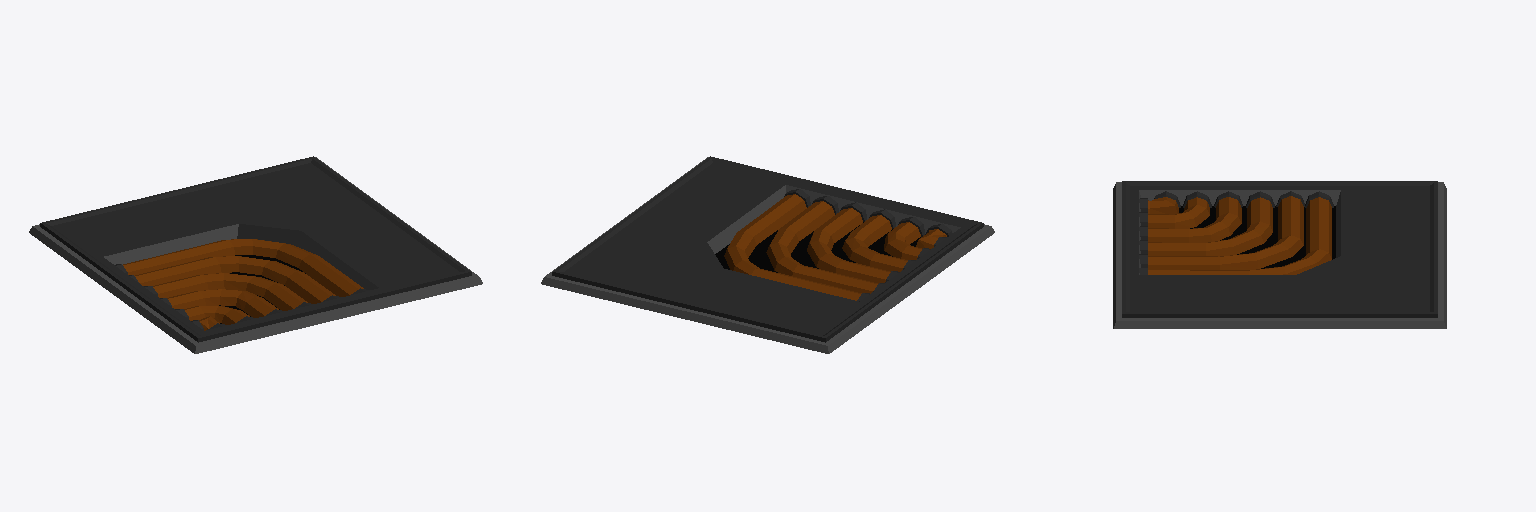
File: RoofTile_Corner_Pipes.obj
3 views of the same model, side by side, from view 1: azimuth 30°, elevation 25°; view 2: azimuth 150°, elevation 25°; view 3: azimuth 270°, elevation 25° (orthographic).
Visible parts, largest first — view 1: RoofTile_Corner_Pipes_Plane.110; view 2: RoofTile_Corner_Pipes_Plane.110; view 3: RoofTile_Corner_Pipes_Plane.110.
Part boxes in pixels (left/top/right/bottom): RoofTile_Corner_Pipes_Plane.110: left=29, top=156, right=482, bottom=353; RoofTile_Corner_Pipes_Plane.110: left=541, top=156, right=994, bottom=353; RoofTile_Corner_Pipes_Plane.110: left=1113, top=181, right=1446, bottom=328.
Size of the model in its own units: 2 by 0.1147 by 2.